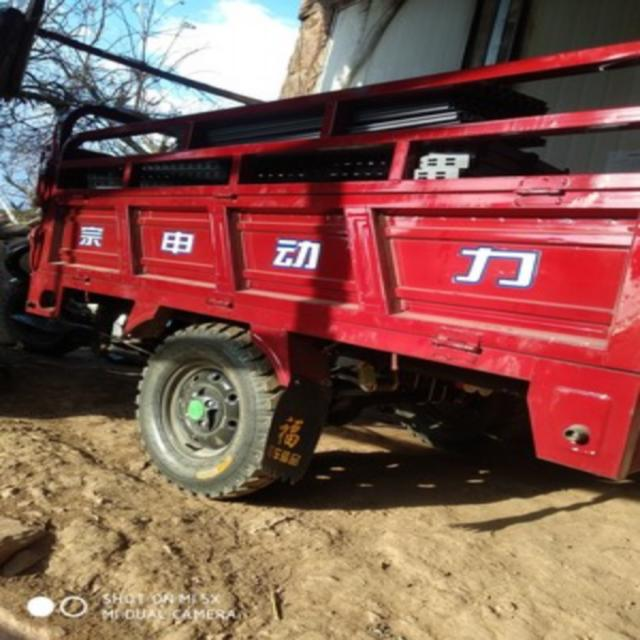tricycle: (21, 38, 638, 496)
